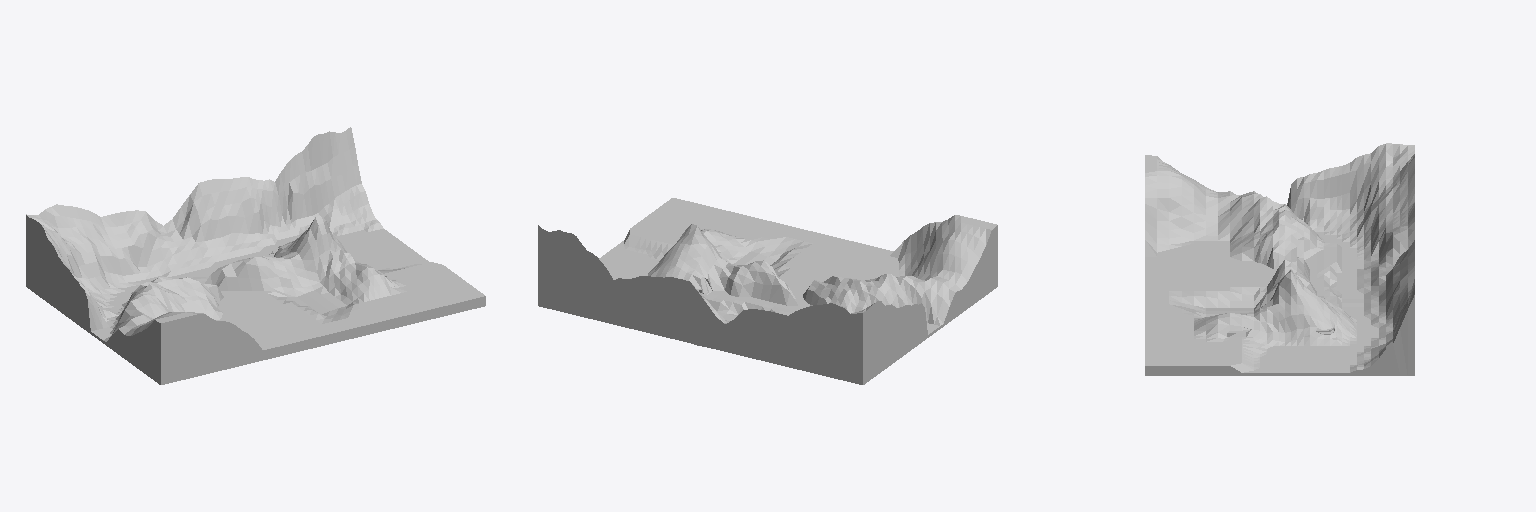
Rendered from Scene_Building_export_test.obj.
3 renders of one model, left to right at view 1: azimuth 30°, elevation 25°; view 2: azimuth 150°, elevation 25°; view 3: azimuth 270°, elevation 25°, orthographic.
Parts seen in each view (by area): view 1: Tunnel_Cube.002; view 2: Tunnel_Cube.002; view 3: Tunnel_Cube.002.
Boxes of the visible parts, box(x1,y1,x2,y2) form: Tunnel_Cube.002: box(26, 127, 485, 384); Tunnel_Cube.002: box(538, 198, 997, 384); Tunnel_Cube.002: box(1145, 143, 1414, 375).
Bounding box in the file's own units: 6.68 × 1.61 × 4.8.